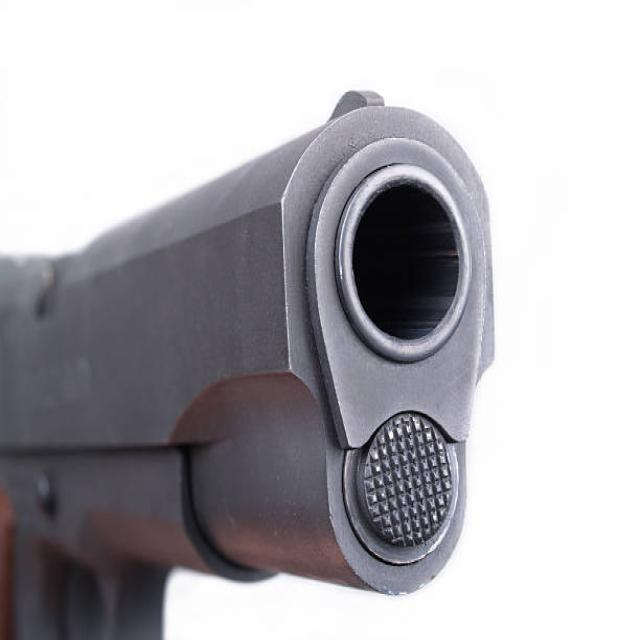pistol: (1, 69, 505, 640)
